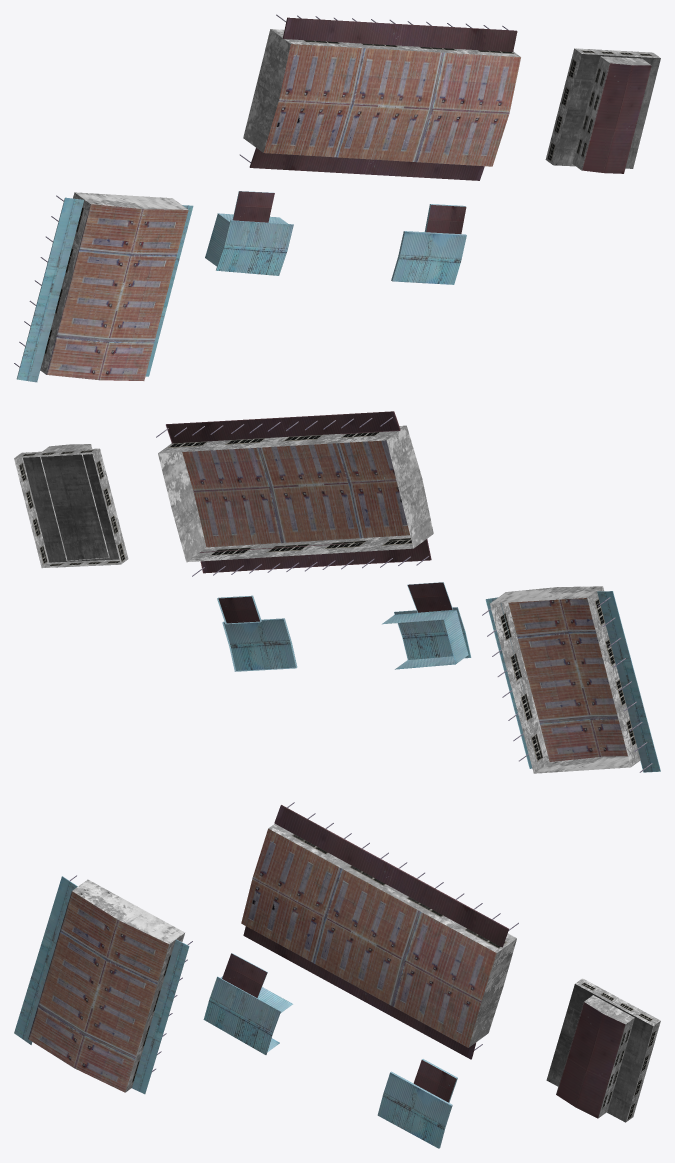
File: building_p5_03.fbx
3 views of the same model, one above another, from view 1: azimuth 30°, elevation 25°; view 2: azimuth 150°, elevation 25°; view 3: azimuth 330°, elevation 25° (orthographic).
Parts seen in each view (by area): view 1: Building_P5_03; view 2: Building_P5_03; view 3: Building_P5_03.
Part boxes in pixels (x1,y1,x2,y2): Building_P5_03: (14, 14, 660, 382); Building_P5_03: (14, 411, 660, 773); Building_P5_03: (14, 802, 660, 1148).
Size of the model in its own units: 19605 by 9472 by 1198.
